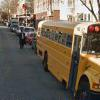Bus: (34, 13, 100, 99)
